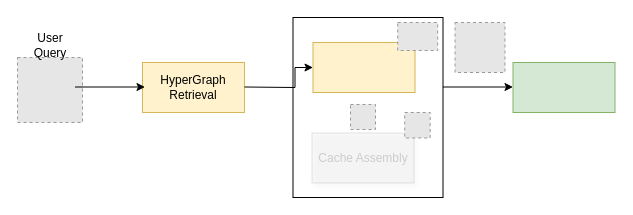
Some shapes in this 633 by 215 pixel diagram are drawn without their labels. Grey dashed boxes stand in for pictures. The shapes that lost their labels are listed below. From the top down, each one's centre as x and y in pixels, then its label:
At point (363, 67): "Candidate Hyperedges & Entities".
At point (563, 87): "Output".
